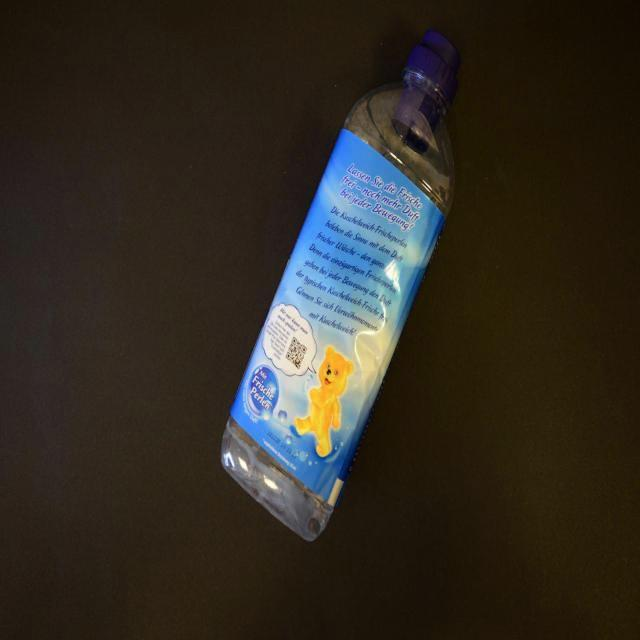bottle: (221, 31, 462, 542)
